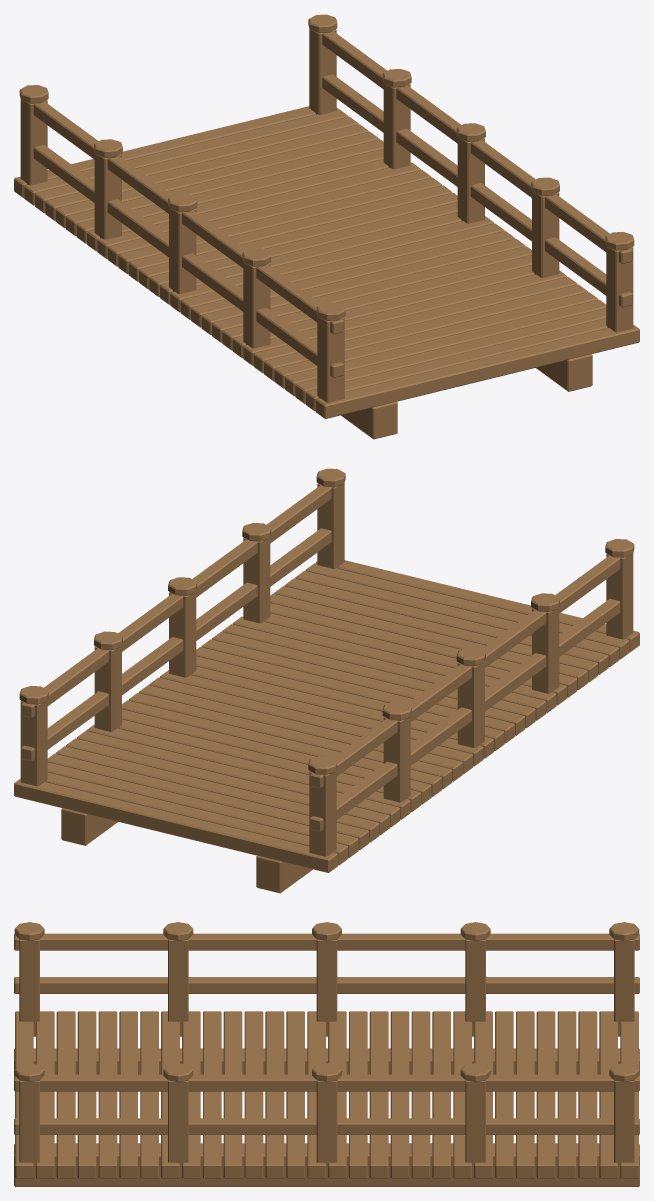
The model's file is bridge.glb.
The picture shows the model from 3 angles, top to bottom: view 1: azimuth 30°, elevation 25°; view 2: azimuth 150°, elevation 25°; view 3: azimuth 270°, elevation 25°; orthographic projection.
Parts seen in each view (by area): view 1: bridge; view 2: bridge; view 3: bridge.
Part boxes in pixels (bbox=[...]): bridge: bbox=[14, 14, 639, 439]; bridge: bbox=[14, 468, 639, 893]; bridge: bbox=[14, 922, 639, 1186].
Size of the model in its own units: 3.5 by 1.43 by 6.
